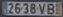2: (7, 2, 14, 13)
3: (21, 2, 29, 14)
6: (14, 2, 21, 14)
8: (29, 2, 36, 14)
B: (46, 3, 55, 14)
V: (37, 3, 45, 14)
